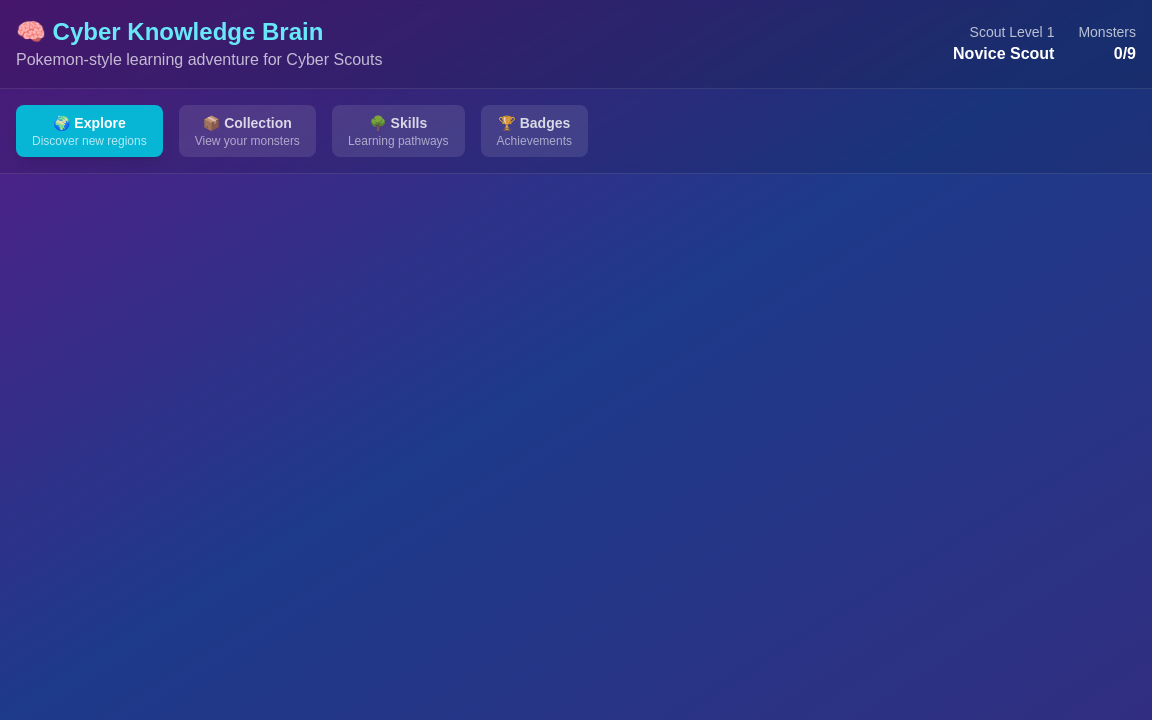
Test: 🧠 CyberKnowledgeBrainGame - Basic Functionality › handles tab navigation to collection
// Click on collection tab
Click the text "📦 Collection" at (247, 123), box [203,115,292,131]
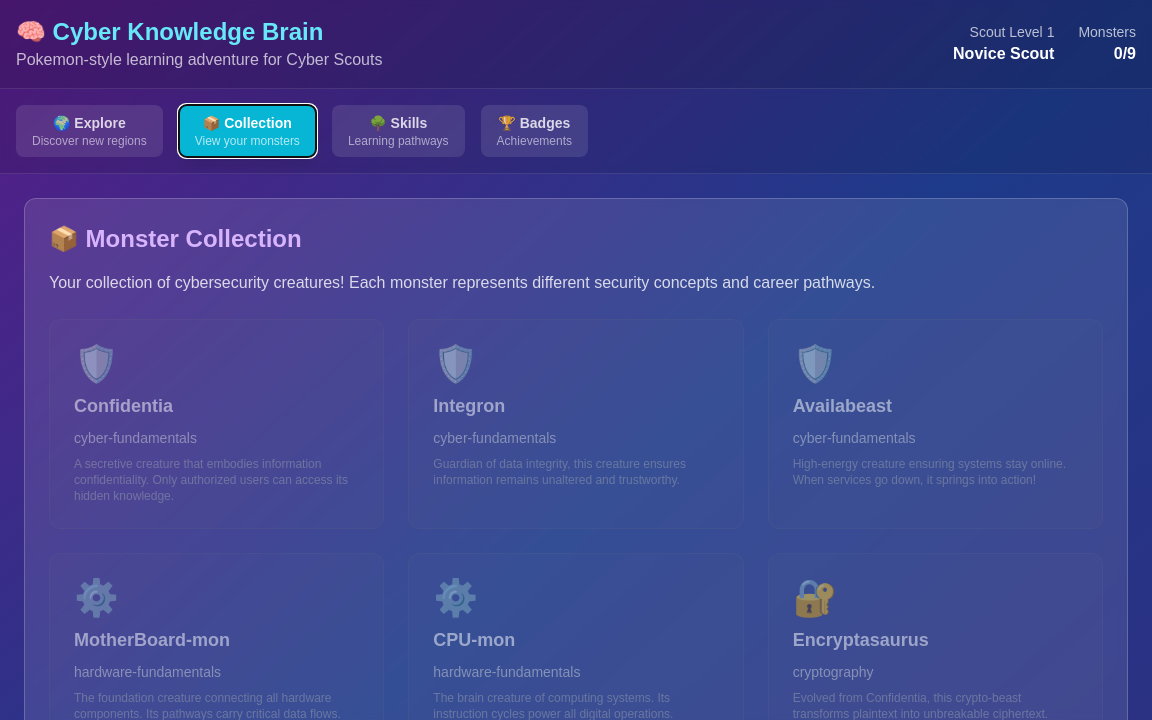
Check: the heading "📦 Monster Collection" is shown, box [49,225,302,252]
Check: the text "Your collection of cybersecurity creatures" is shown, box [49,274,875,291]
